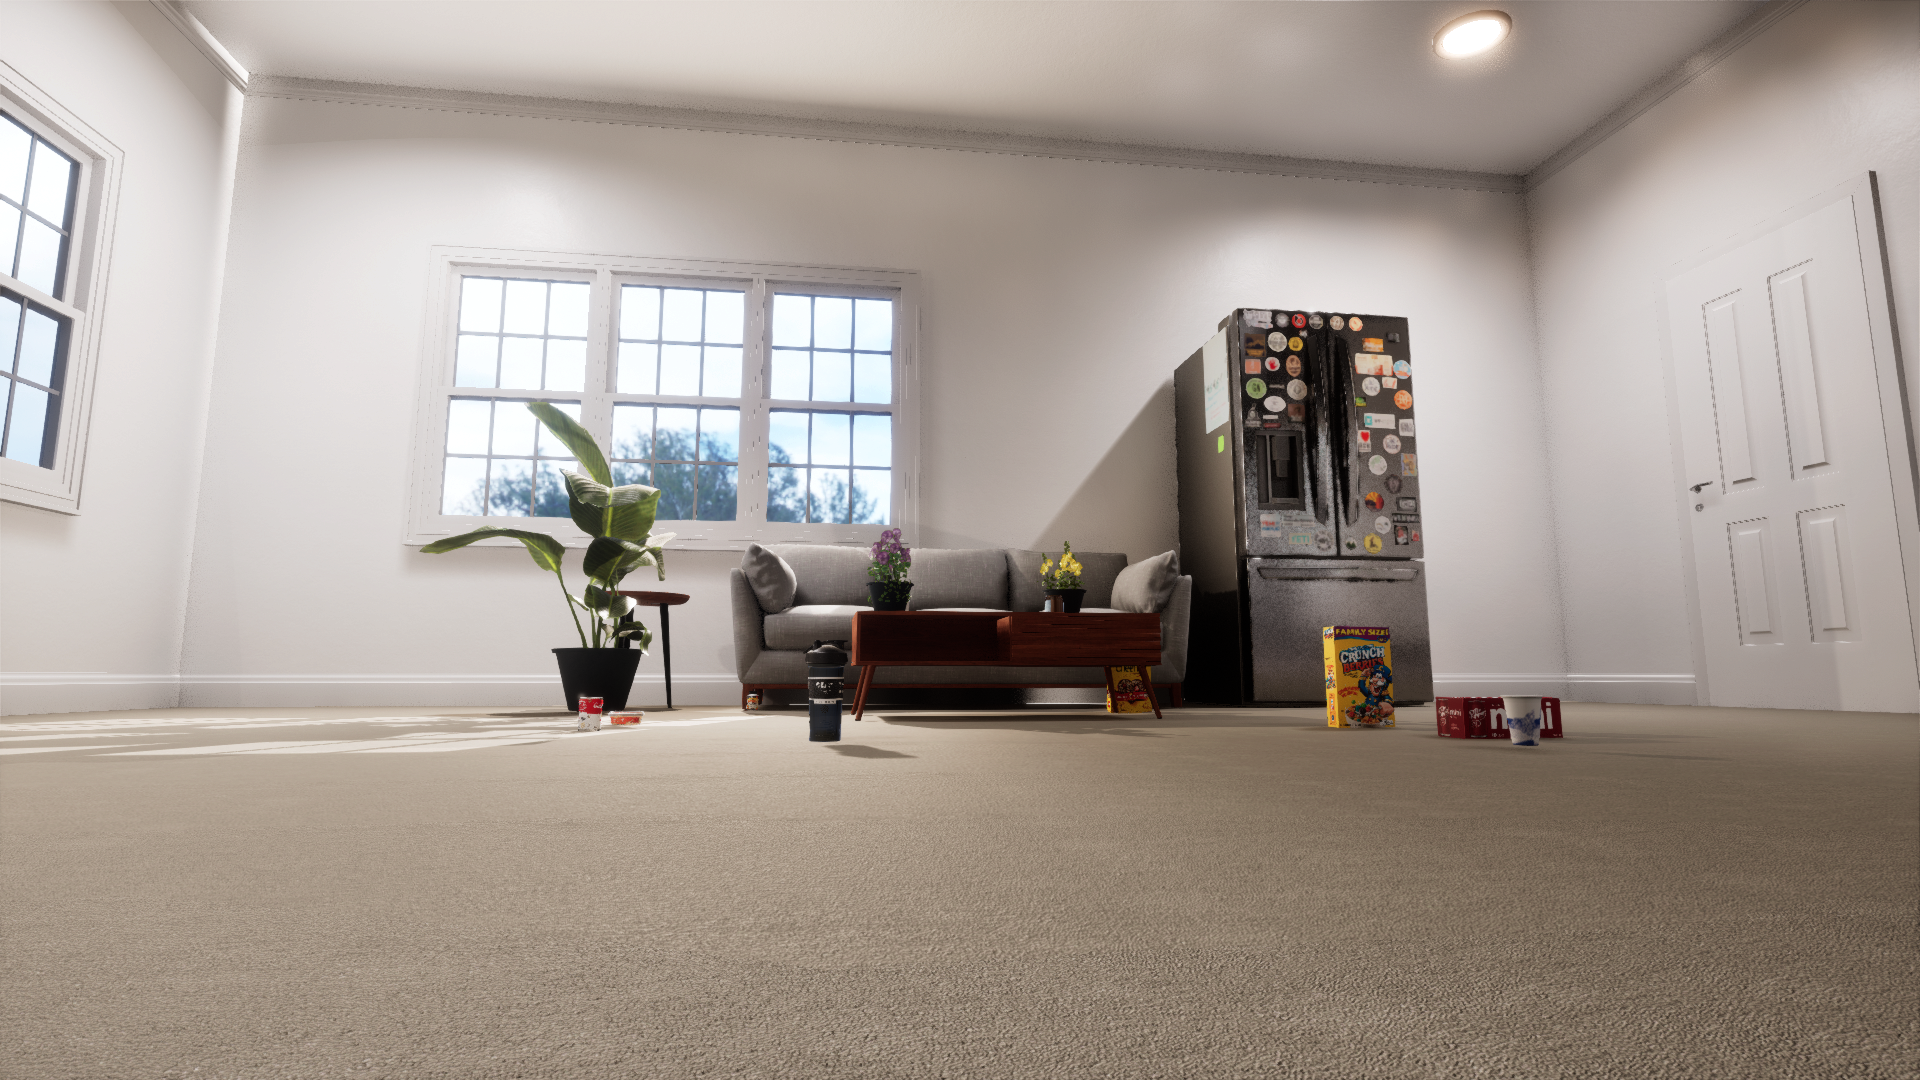cheerios: (1106, 666, 1153, 713)
soup: (578, 698, 603, 731)
